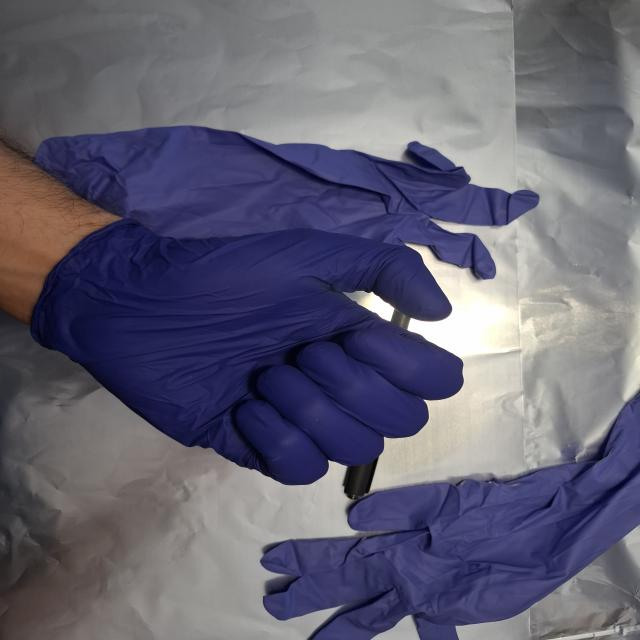glove_on: (35, 216, 468, 487)
